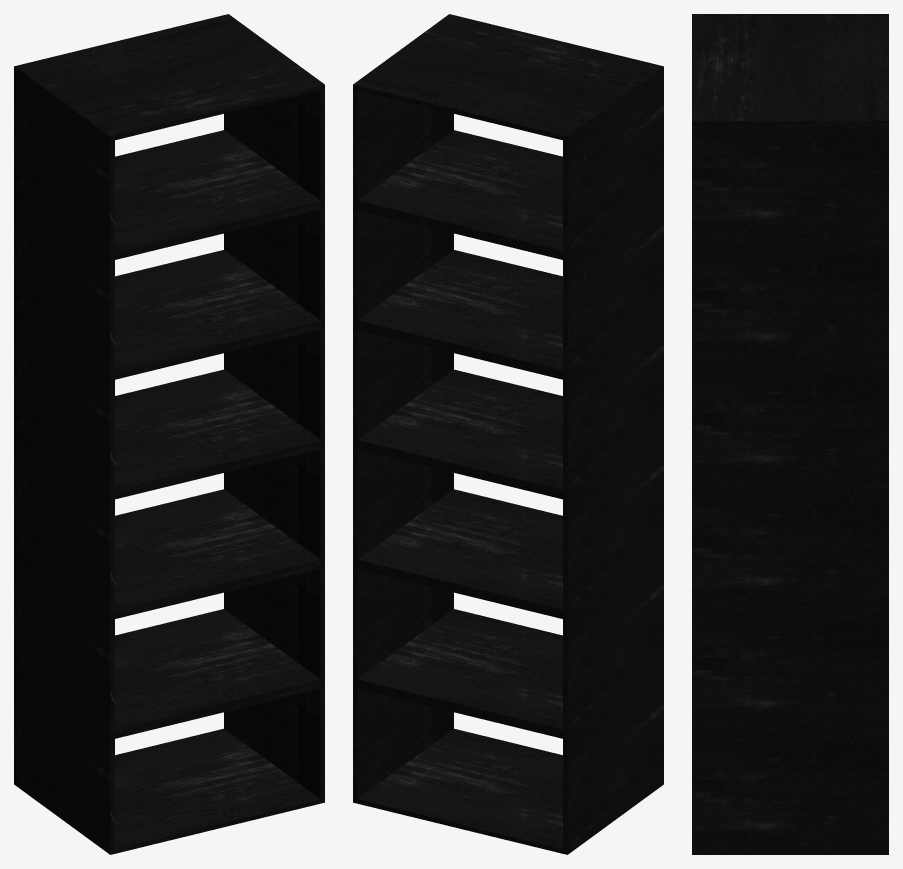
File: armari.fbx
3 views of the same model, side by side, from view 1: azimuth 30°, elevation 25°; view 2: azimuth 150°, elevation 25°; view 3: azimuth 270°, elevation 25° (orthographic). The views are drawn at different scales.
Parts seen in each view (by area): view 1: Cube.116; view 2: Cube.116; view 3: Cube.116.
Part boxes in pixels (box(x1,y1,x2,y2)): Cube.116: box(14, 14, 324, 854); Cube.116: box(353, 14, 663, 854); Cube.116: box(692, 14, 888, 854).
Bounding box in the file's own units: 50.09 × 160 × 38.94.
1 material, 1 textured.
